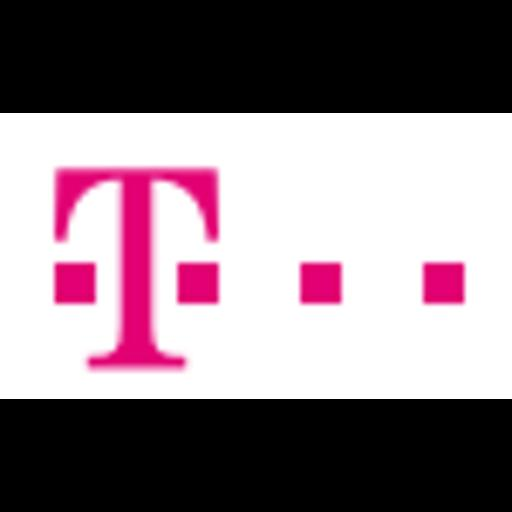Deutsche Telekom: (0, 113, 512, 399)
